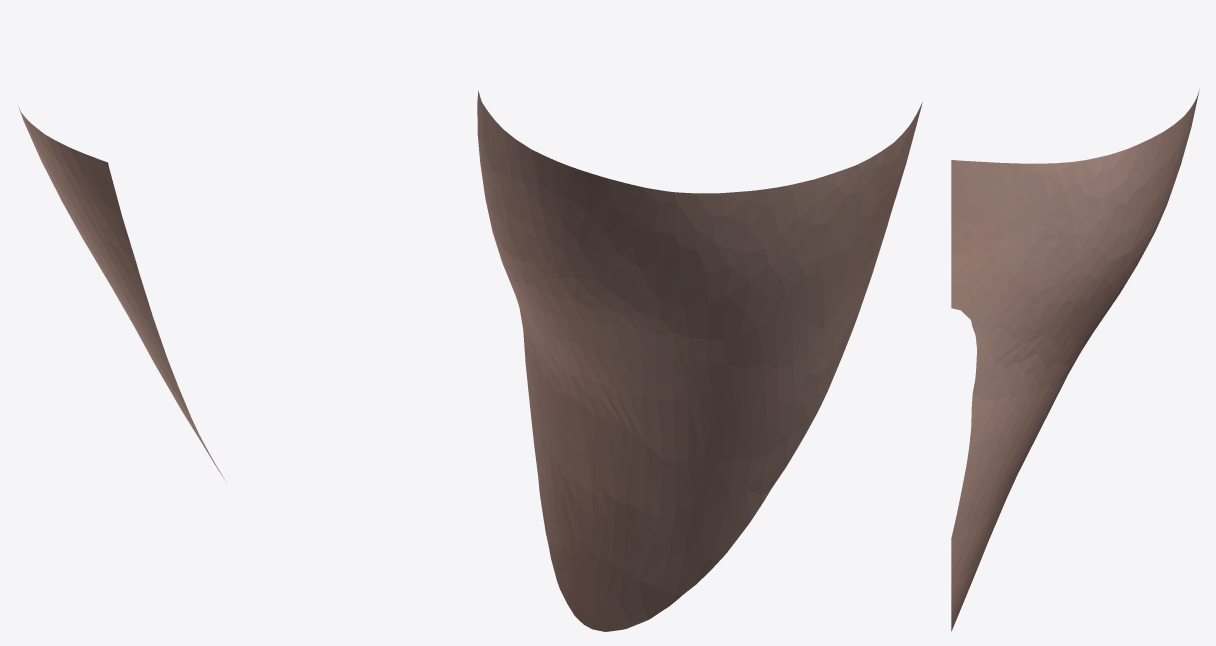
The picture shows the model from 3 angles, left to right: view 1: azimuth 30°, elevation 25°; view 2: azimuth 150°, elevation 25°; view 3: azimuth 270°, elevation 25°; orthographic projection. The views are drawn at different scales.
Bounding box in the file's own units: 107 × 153 × 72.17.
Materials: 1 (1 with a texture image).
